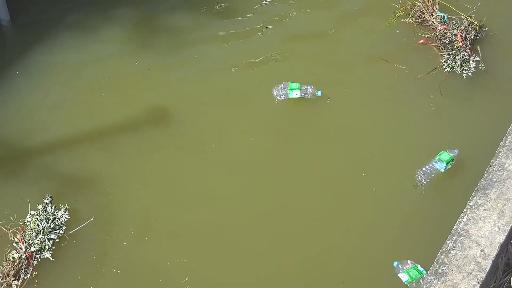plastic: (393, 255, 439, 288), (413, 143, 448, 184), (274, 85, 329, 103)
twig: (0, 177, 107, 288), (389, 0, 490, 89)
